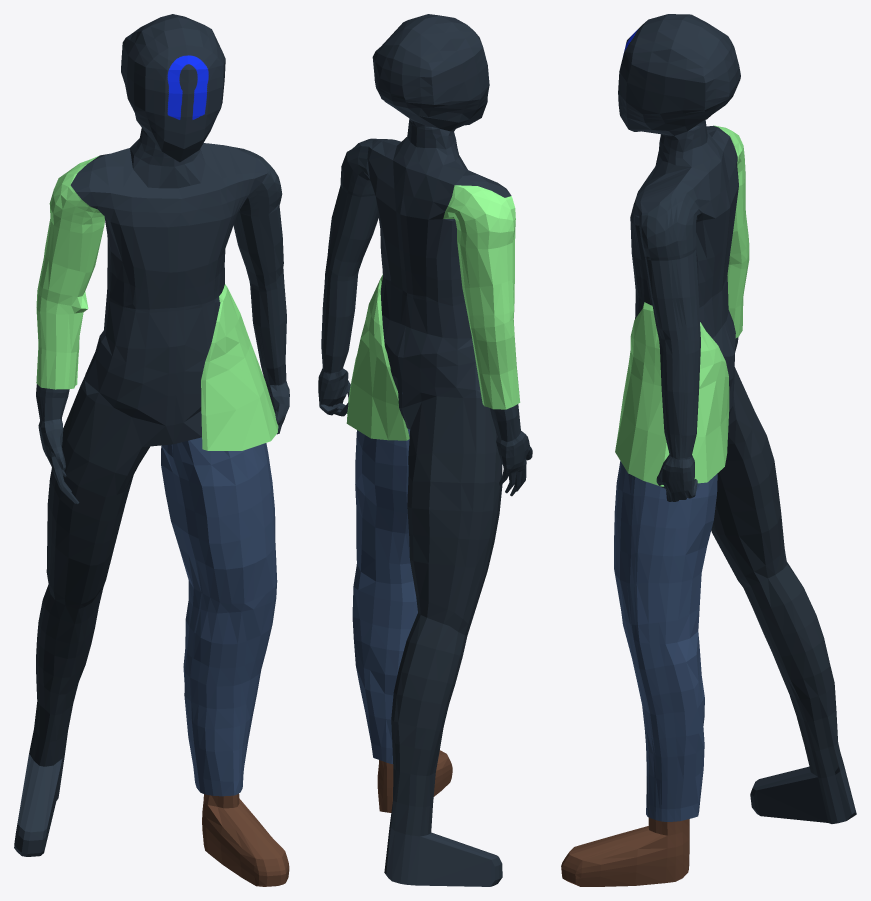
File: Mar_Recover_000008.obj
The picture shows the model from 3 angles, left to right: view 1: azimuth 30°, elevation 25°; view 2: azimuth 150°, elevation 25°; view 3: azimuth 270°, elevation 25°; orthographic projection. The views are drawn at different scales.
Parts seen in each view (by area): view 1: Cube.000_Cube.001; view 2: Cube.000_Cube.001; view 3: Cube.000_Cube.001.
Part boxes in pixels (x1,y1,x2,y2): Cube.000_Cube.001: (14,14,289,886); Cube.000_Cube.001: (318,14,532,886); Cube.000_Cube.001: (561,14,856,886).
Bounding box in the file's own units: 1.12 × 3.95 × 1.26.
